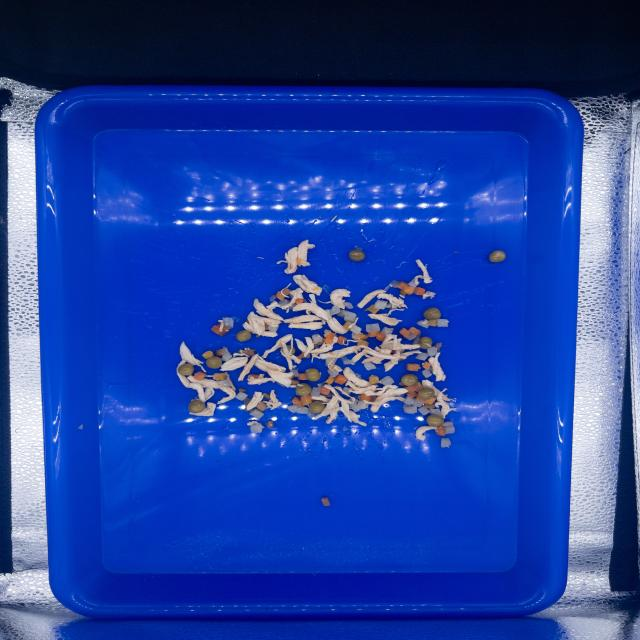Carrot: (211, 323, 230, 337), (404, 382, 423, 393), (415, 396, 437, 404), (322, 333, 337, 344), (364, 304, 380, 313), (358, 394, 376, 402), (301, 394, 312, 406), (399, 328, 412, 338), (193, 371, 207, 380), (335, 374, 346, 385), (406, 363, 421, 371), (272, 291, 285, 300), (353, 334, 369, 341), (412, 287, 426, 295), (256, 402, 268, 411), (403, 286, 415, 295), (201, 351, 214, 359), (297, 351, 310, 359), (363, 331, 380, 337), (291, 396, 301, 406), (289, 375, 299, 385), (397, 281, 408, 290), (369, 375, 380, 384), (436, 425, 445, 436), (242, 349, 256, 356), (408, 327, 420, 335), (325, 376, 335, 385), (337, 336, 347, 345), (376, 332, 386, 341), (357, 340, 369, 347), (422, 361, 431, 370), (320, 387, 330, 395), (214, 373, 225, 380), (427, 319, 438, 326), (326, 358, 337, 365), (343, 322, 352, 330), (297, 373, 307, 380), (282, 288, 292, 295), (407, 391, 418, 397), (215, 349, 224, 356), (425, 403, 435, 409), (248, 374, 259, 379), (262, 393, 271, 399), (324, 330, 331, 337), (295, 298, 303, 304), (267, 421, 273, 428), (298, 401, 304, 407), (400, 290, 406, 296), (265, 325, 269, 331), (239, 389, 246, 392)
Chicken_Shred: (319, 334, 422, 372), (176, 341, 236, 404), (243, 288, 304, 337), (343, 367, 408, 412), (283, 294, 349, 334), (312, 384, 367, 427), (247, 355, 297, 388), (261, 334, 302, 370), (422, 379, 457, 419), (277, 240, 315, 274), (220, 349, 259, 381), (295, 336, 338, 363), (356, 289, 408, 309), (367, 308, 404, 326), (318, 289, 351, 309), (293, 274, 322, 296), (428, 353, 446, 381), (414, 259, 433, 284), (263, 390, 282, 410), (189, 402, 216, 416), (415, 426, 436, 441), (247, 392, 264, 410), (224, 372, 236, 391), (328, 358, 343, 373), (311, 395, 331, 403), (281, 283, 291, 298), (422, 291, 436, 299), (348, 317, 358, 328), (342, 340, 363, 345), (285, 339, 291, 352), (218, 320, 224, 331), (247, 421, 259, 426), (399, 295, 406, 298), (206, 375, 214, 377), (203, 378, 208, 379)
Peas: (423, 307, 441, 320), (188, 400, 206, 413), (427, 414, 444, 427), (295, 383, 312, 396), (206, 356, 222, 369), (489, 250, 506, 262), (401, 374, 418, 386), (417, 388, 435, 399), (349, 249, 365, 261), (309, 401, 325, 413), (178, 363, 194, 375), (236, 330, 252, 342), (306, 369, 320, 381), (418, 337, 433, 348), (291, 347, 295, 355), (287, 345, 291, 352), (280, 347, 283, 352)
Potato_White: (337, 310, 356, 324), (348, 399, 368, 412), (310, 382, 325, 396), (250, 408, 264, 419), (250, 423, 265, 433), (402, 404, 417, 414), (222, 347, 232, 361), (380, 376, 394, 386), (223, 317, 234, 329), (417, 405, 430, 415), (374, 300, 388, 309), (366, 323, 380, 332), (415, 352, 429, 361), (350, 324, 361, 335), (422, 366, 432, 378), (235, 392, 248, 401), (403, 396, 416, 405), (381, 326, 394, 335), (244, 398, 253, 411), (217, 379, 231, 387), (330, 305, 340, 316), (427, 347, 438, 357), (364, 362, 376, 371), (408, 279, 420, 288), (287, 405, 300, 413), (413, 331, 421, 344), (441, 438, 451, 448), (312, 334, 323, 343), (444, 425, 455, 434), (412, 399, 424, 407), (327, 370, 339, 378), (417, 320, 429, 328), (428, 408, 441, 415), (342, 358, 355, 365), (342, 387, 353, 395), (437, 319, 448, 327), (297, 407, 309, 414), (321, 497, 330, 506), (406, 333, 416, 341), (390, 280, 400, 288), (268, 325, 279, 332), (279, 299, 290, 306), (434, 342, 442, 351), (344, 302, 353, 309), (307, 410, 316, 417), (290, 370, 299, 377), (441, 421, 453, 426), (289, 303, 297, 310), (322, 393, 333, 397), (383, 285, 390, 291), (356, 373, 362, 379), (352, 332, 357, 338), (270, 297, 276, 302), (386, 303, 391, 308), (304, 299, 307, 303), (349, 398, 352, 401)
